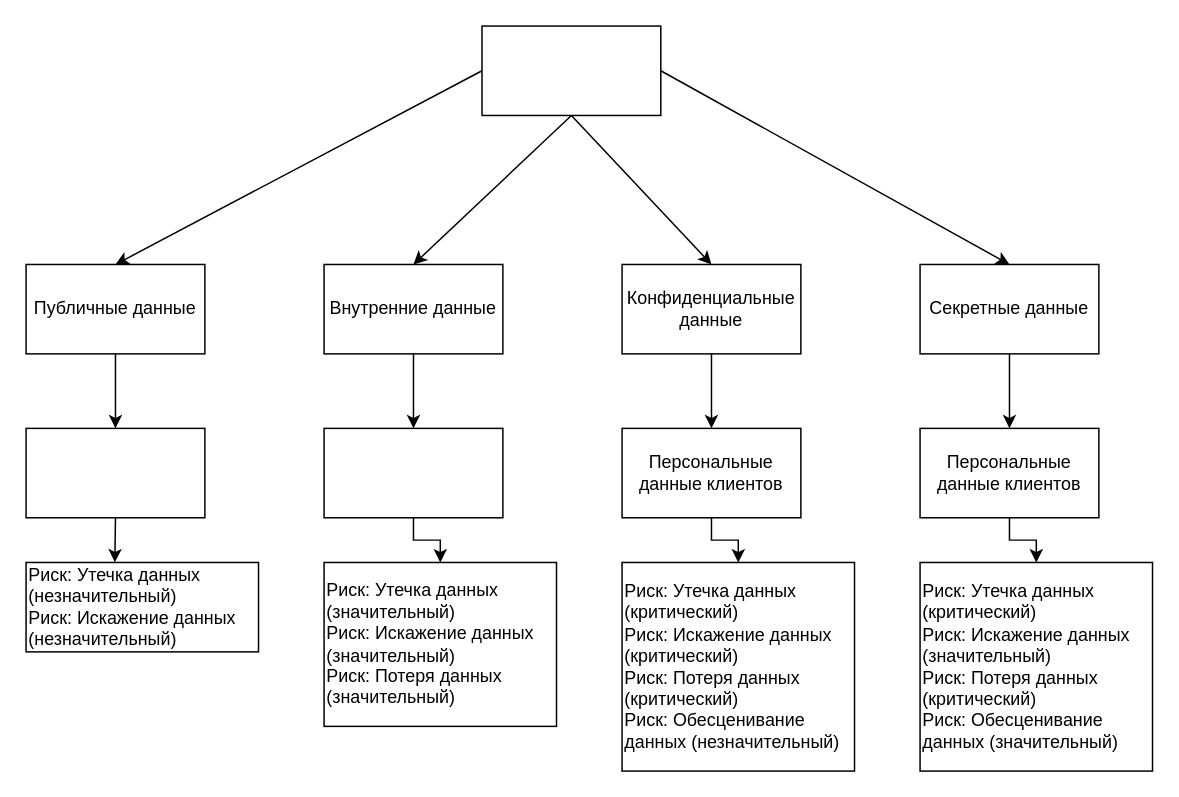
Some shapes in this 1179 by 797 pixel diagram are drawn without their labels. The shapes that lost their labels are listed below. From the top down, each one's box as (x1, y1, x2, y2) in pixels, then its label:
(481, 25, 661, 115): Безопасность данных
(25, 427, 205, 518): Информация об объектах недвижимости
(323, 427, 503, 518): Данные о бронированиях
